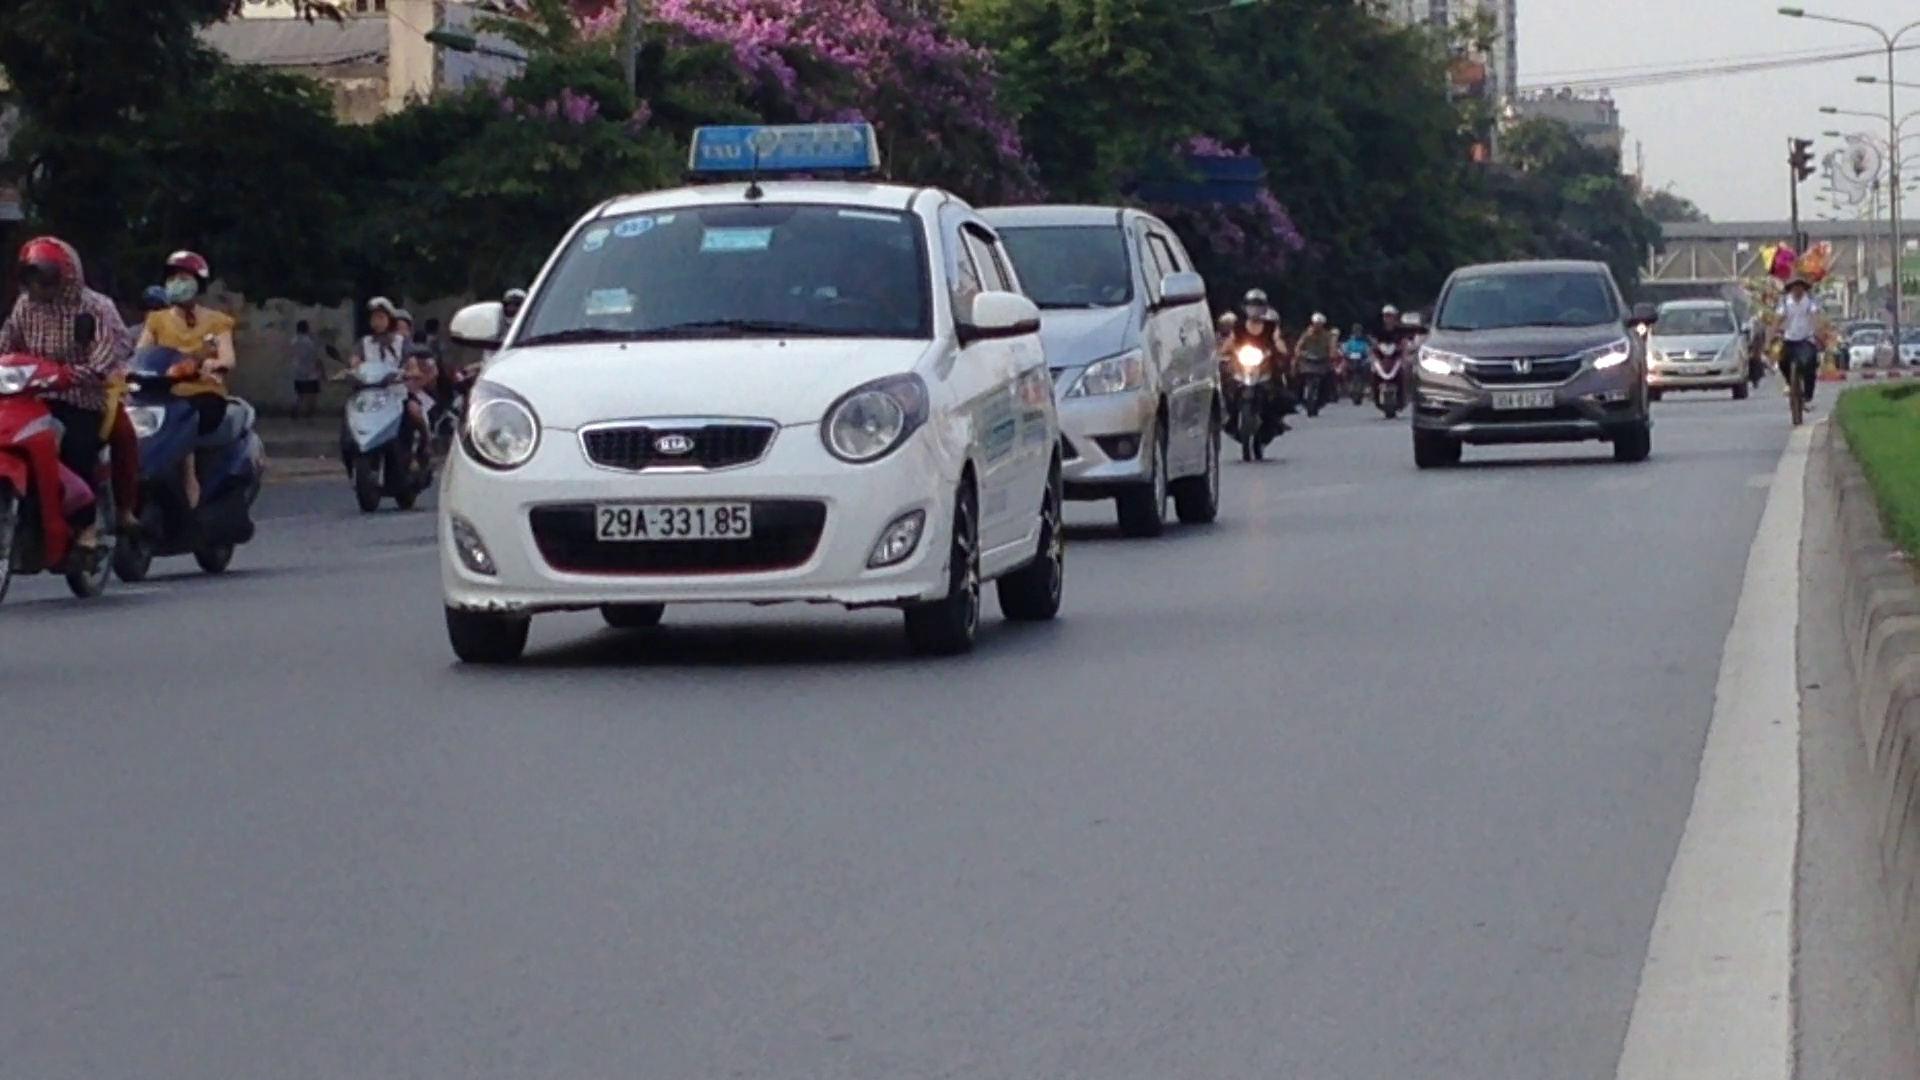vehicle-plate: (592, 499, 756, 541), (1489, 386, 1558, 410)
